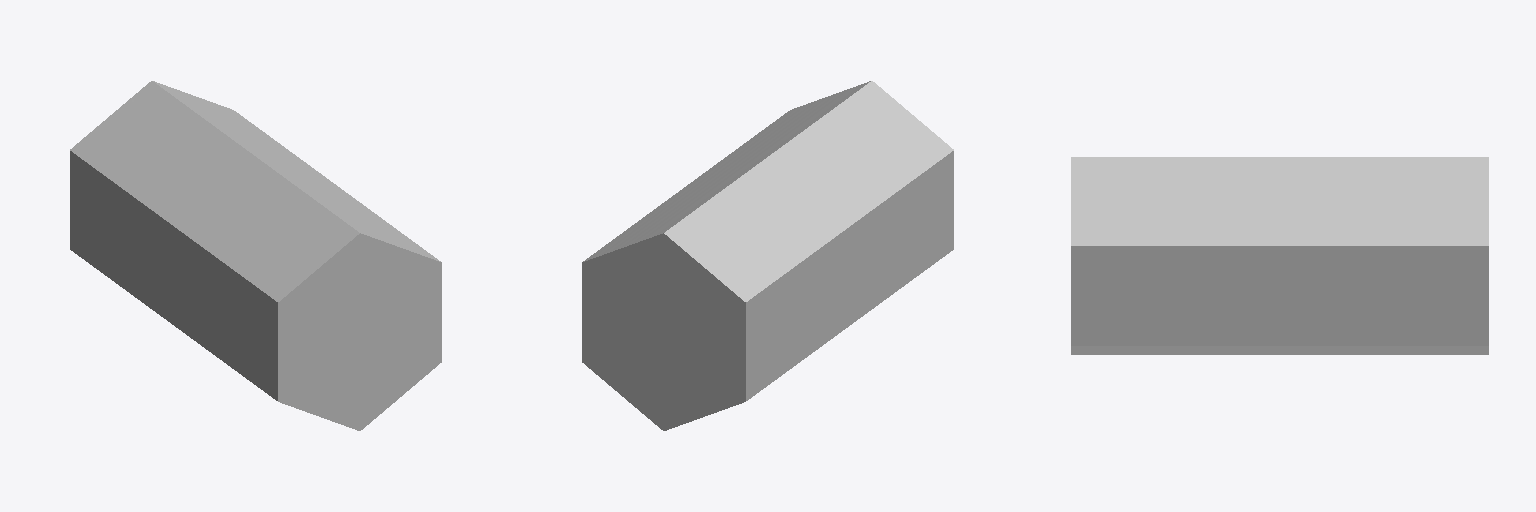
Rendered from hexagon_peg.obj.
The picture shows the model from 3 angles: view 1: azimuth 30°, elevation 25°; view 2: azimuth 150°, elevation 25°; view 3: azimuth 270°, elevation 25°; orthographic projection.
Bounding box in the file's own units: 0.0346 × 0.04 × 0.0762.